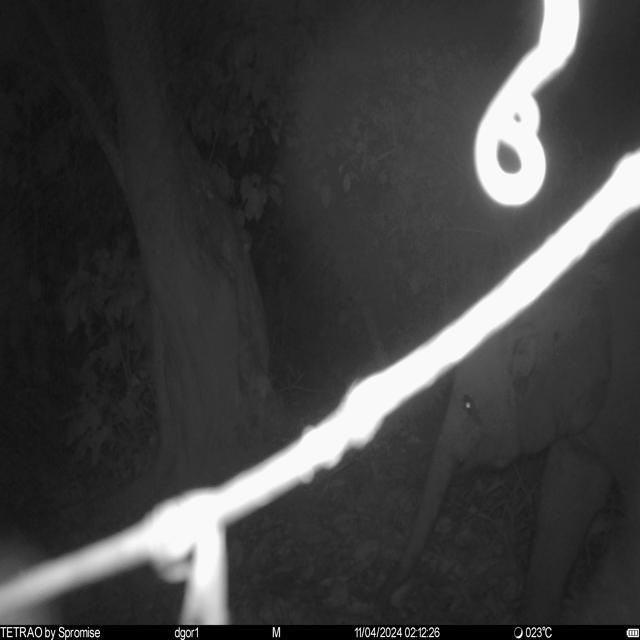calf: (379, 245, 640, 624)
ear: (519, 267, 613, 457)
